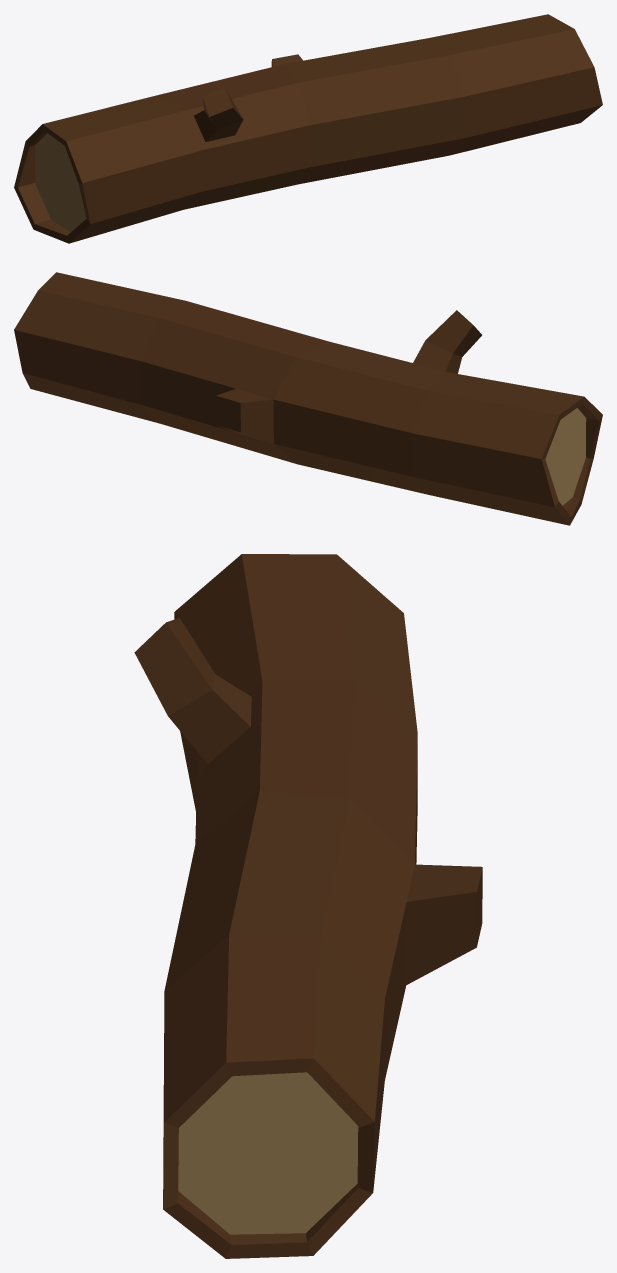
Rendered from Log2.fbx.
The picture shows the model from 3 angles, top to bottom: view 1: azimuth 30°, elevation 25°; view 2: azimuth 150°, elevation 25°; view 3: azimuth 270°, elevation 25°; orthographic projection. The views are drawn at different scales.
Visible parts, largest first — view 1: Cylinder.012; view 2: Cylinder.012; view 3: Cylinder.012.
Part boxes in pixels (<box>): Cylinder.012: <box>14,14,602,243</box>; Cylinder.012: <box>14,272,602,525</box>; Cylinder.012: <box>134,554,482,1258</box>.
Size of the model in its own units: 254 by 63.64 by 72.29.
